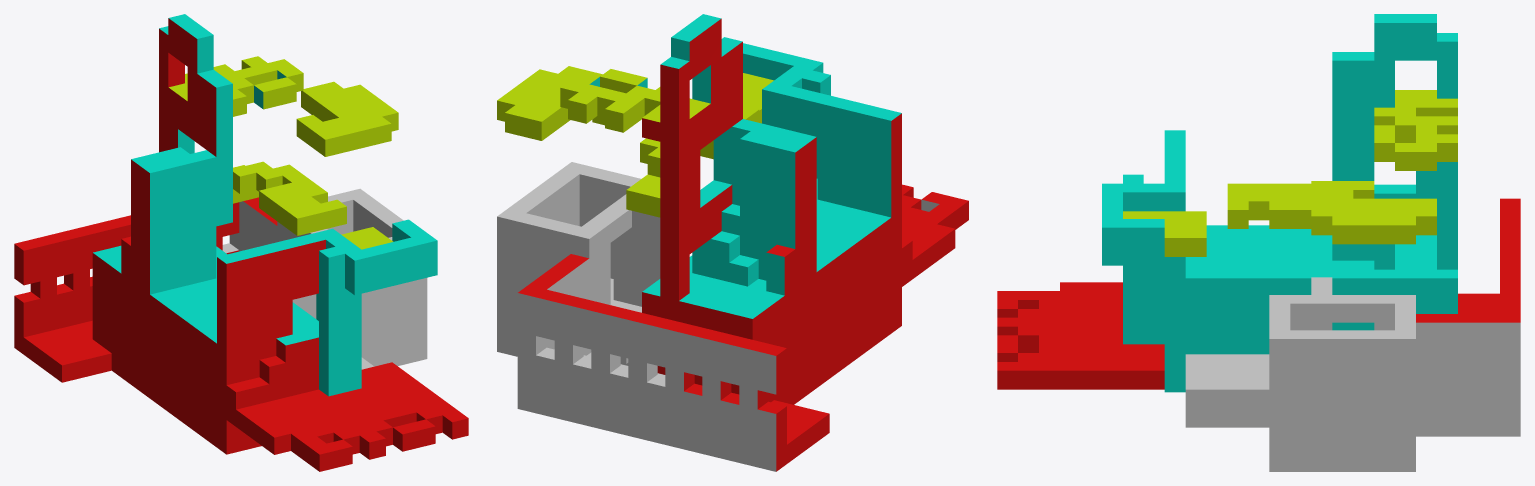
File: level.fbx
The picture shows the model from 3 angles, left to right: view 1: azimuth 30°, elevation 25°; view 2: azimuth 150°, elevation 25°; view 3: azimuth 270°, elevation 25°; orthographic projection. The views are drawn at different scales.
Visible parts, largest first — view 1: Level; view 2: Level; view 3: Level.
Boxes of the visible parts, x1,y1,x2,y2 form: Level: (14,14,468,471); Level: (497,14,968,471); Level: (997,14,1520,471).
Size of the model in its own units: 180 by 190 by 250.
